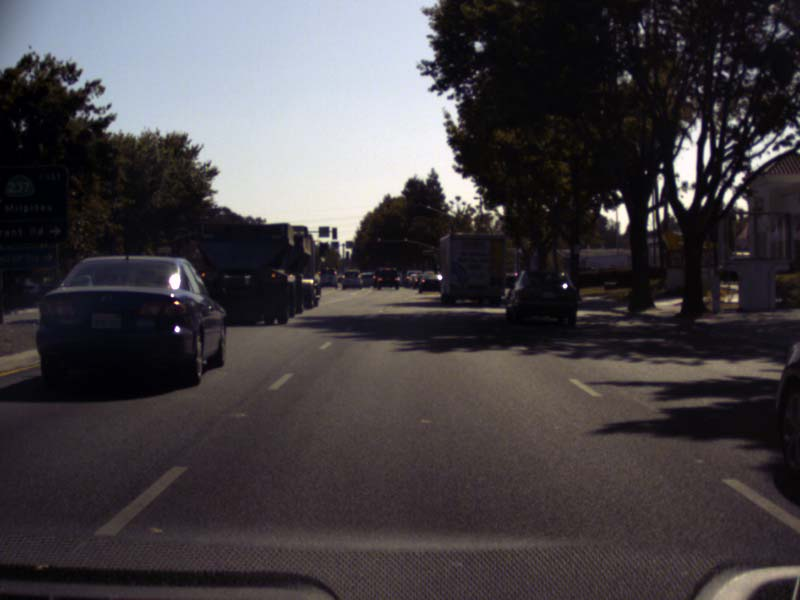Yellow: (376, 237, 381, 242), (403, 237, 408, 242)
